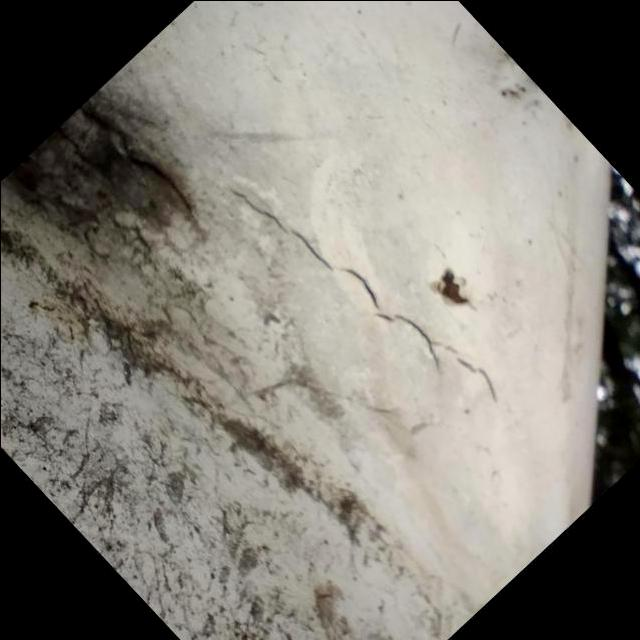defect: (221, 180, 502, 405)
